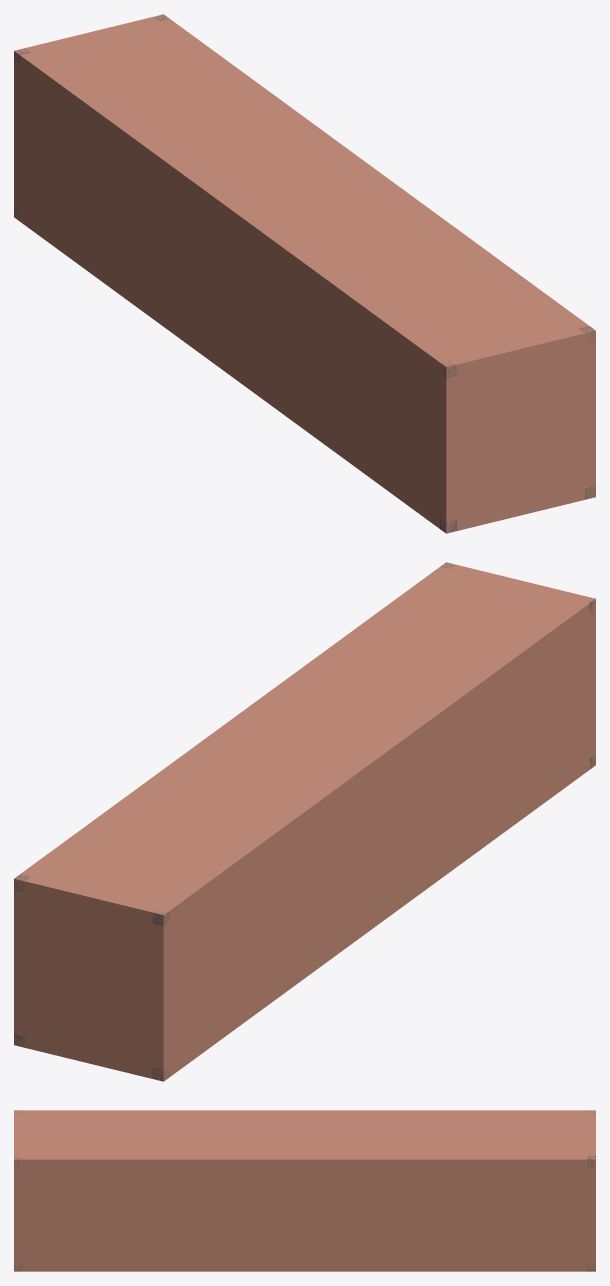
The model's file is Container_40ft_Low.fbx.
The picture shows the model from 3 angles, top to bottom: view 1: azimuth 30°, elevation 25°; view 2: azimuth 150°, elevation 25°; view 3: azimuth 270°, elevation 25°; orthographic projection. The views are drawn at different scales.
Visible parts, largest first — view 1: Container_40ft_Low; view 2: Container_40ft_Low; view 3: Container_40ft_Low.
Boxes of the visible parts, x1,y1,x2,y2 form: Container_40ft_Low: (14,14,595,533); Container_40ft_Low: (14,562,595,1081); Container_40ft_Low: (14,1110,595,1271).
Size of the model in its own units: 244 by 259 by 1219.
